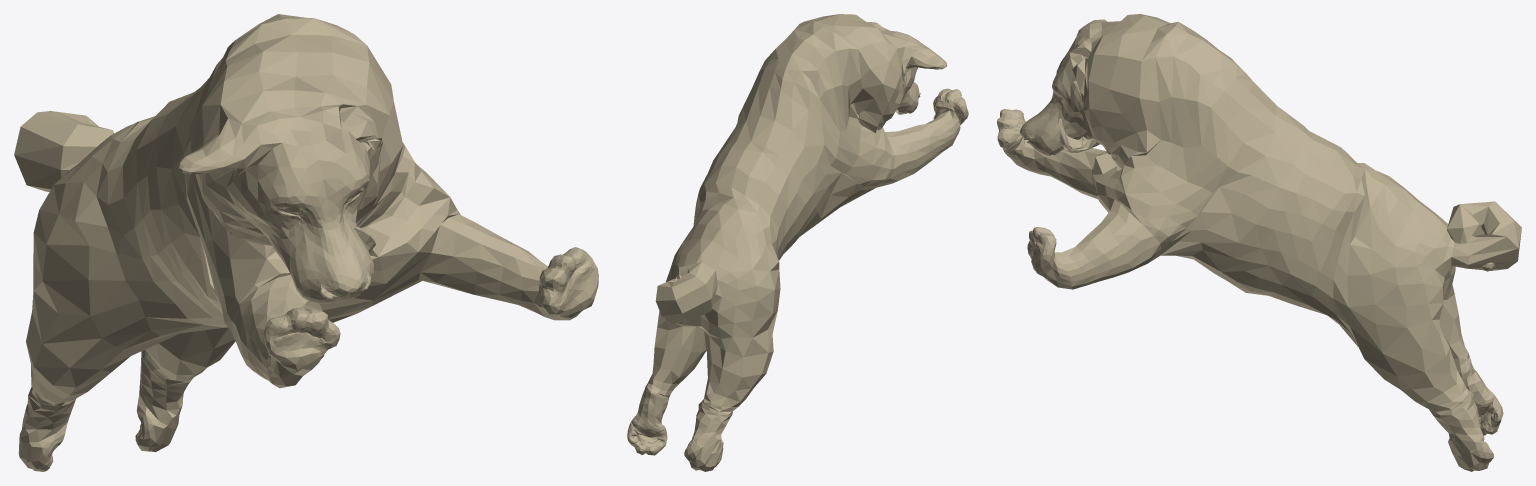
3 views of the same model, side by side, from view 1: azimuth 30°, elevation 25°; view 2: azimuth 150°, elevation 25°; view 3: azimuth 270°, elevation 25° (orthographic). The views are drawn at different scales.
Parts seen in each view (by area): view 1: world; view 2: world; view 3: world.
Boxes of the visible parts, x1,y1,x2,y2 form: world: (14,14,598,471); world: (627,14,968,471); world: (997,14,1521,471).
Bounding box in the file's own units: 0.6099 × 0.9463 × 1.08.
